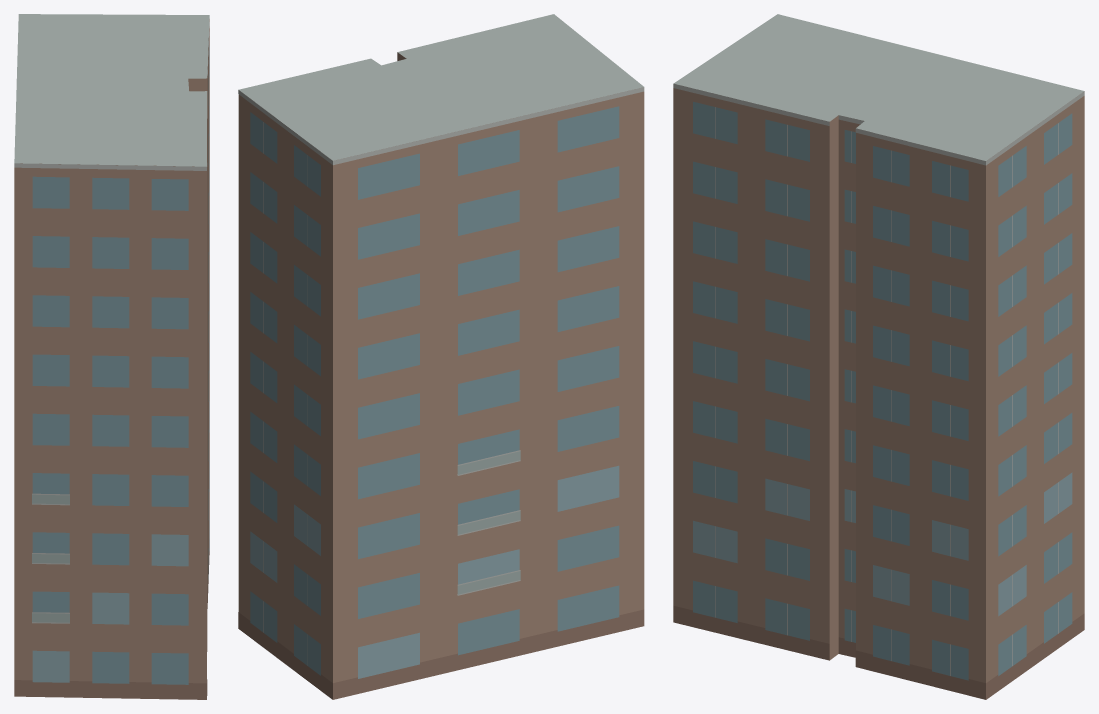
The model's file is survey-upis-32868887.glb.
3 renders of one model, left to right at view 1: azimuth 30°, elevation 25°; view 2: azimuth 150°, elevation 25°; view 3: azimuth 270°, elevation 25°, orthographic.
Parts seen in each view (by area): view 1: survey-upis-32868887.tmp; view 2: survey-upis-32868887.tmp; view 3: survey-upis-32868887.tmp.
Part boxes in pixels (x1,y1,x2,y2): survey-upis-32868887.tmp: [14, 14, 209, 699]; survey-upis-32868887.tmp: [238, 14, 644, 699]; survey-upis-32868887.tmp: [673, 14, 1084, 699].
Bounding box in the file's own units: 17.4 × 29.7 × 20.56.
